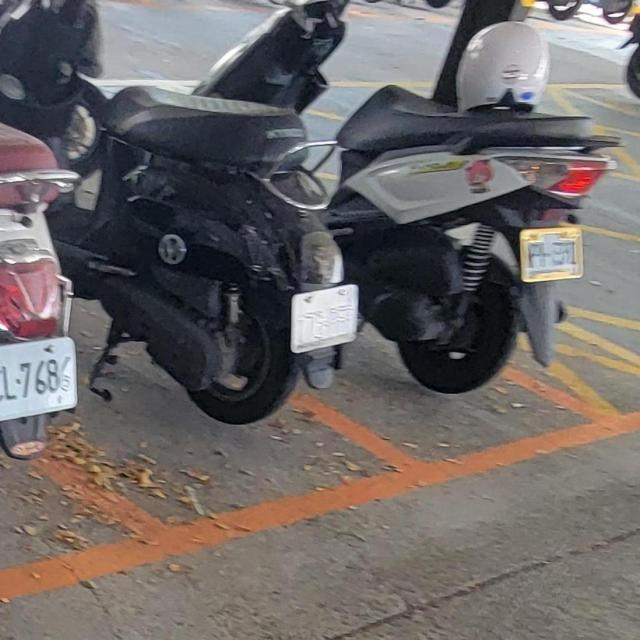W: (0, 332, 82, 427), (514, 221, 588, 283)
